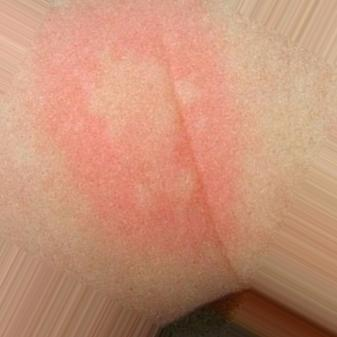Mosquito: (43, 34, 229, 224)
